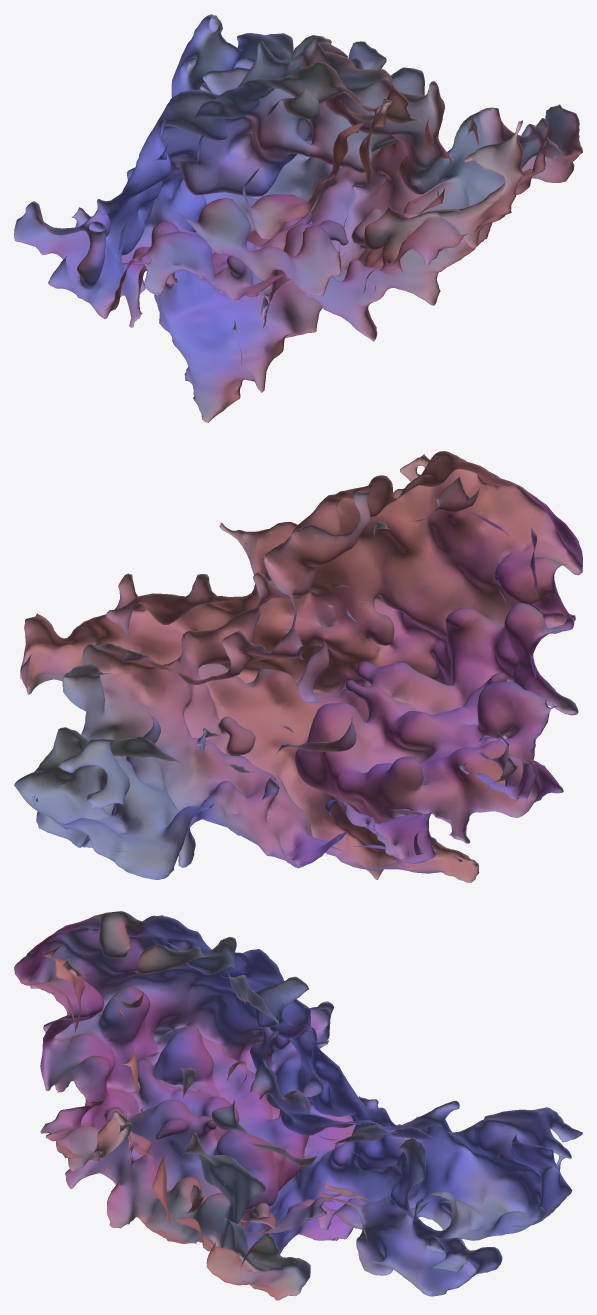
Rendered from Nebula_4.glb.
The picture shows the model from 3 angles, top to bottom: view 1: azimuth 30°, elevation 25°; view 2: azimuth 150°, elevation 25°; view 3: azimuth 270°, elevation 25°; orthographic projection. The views are drawn at different scales.
Parts seen in each view (by area): view 1: Nebula_4; view 2: Nebula_4; view 3: Nebula_4.
Part boxes in pixels (left/top/right/bottom): Nebula_4: left=14, top=14, right=582, bottom=422; Nebula_4: left=14, top=451, right=582, bottom=882; Nebula_4: left=14, top=911, right=582, bottom=1300.
Size of the model in its own units: 1.2 by 0.8081 by 1.15.
